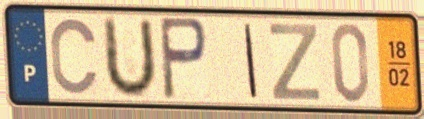0: (329, 21, 371, 105)
C: (48, 15, 102, 97)
I: (241, 20, 260, 101)
P: (157, 14, 211, 103)
U: (102, 13, 159, 102)
Z: (267, 21, 322, 104)
